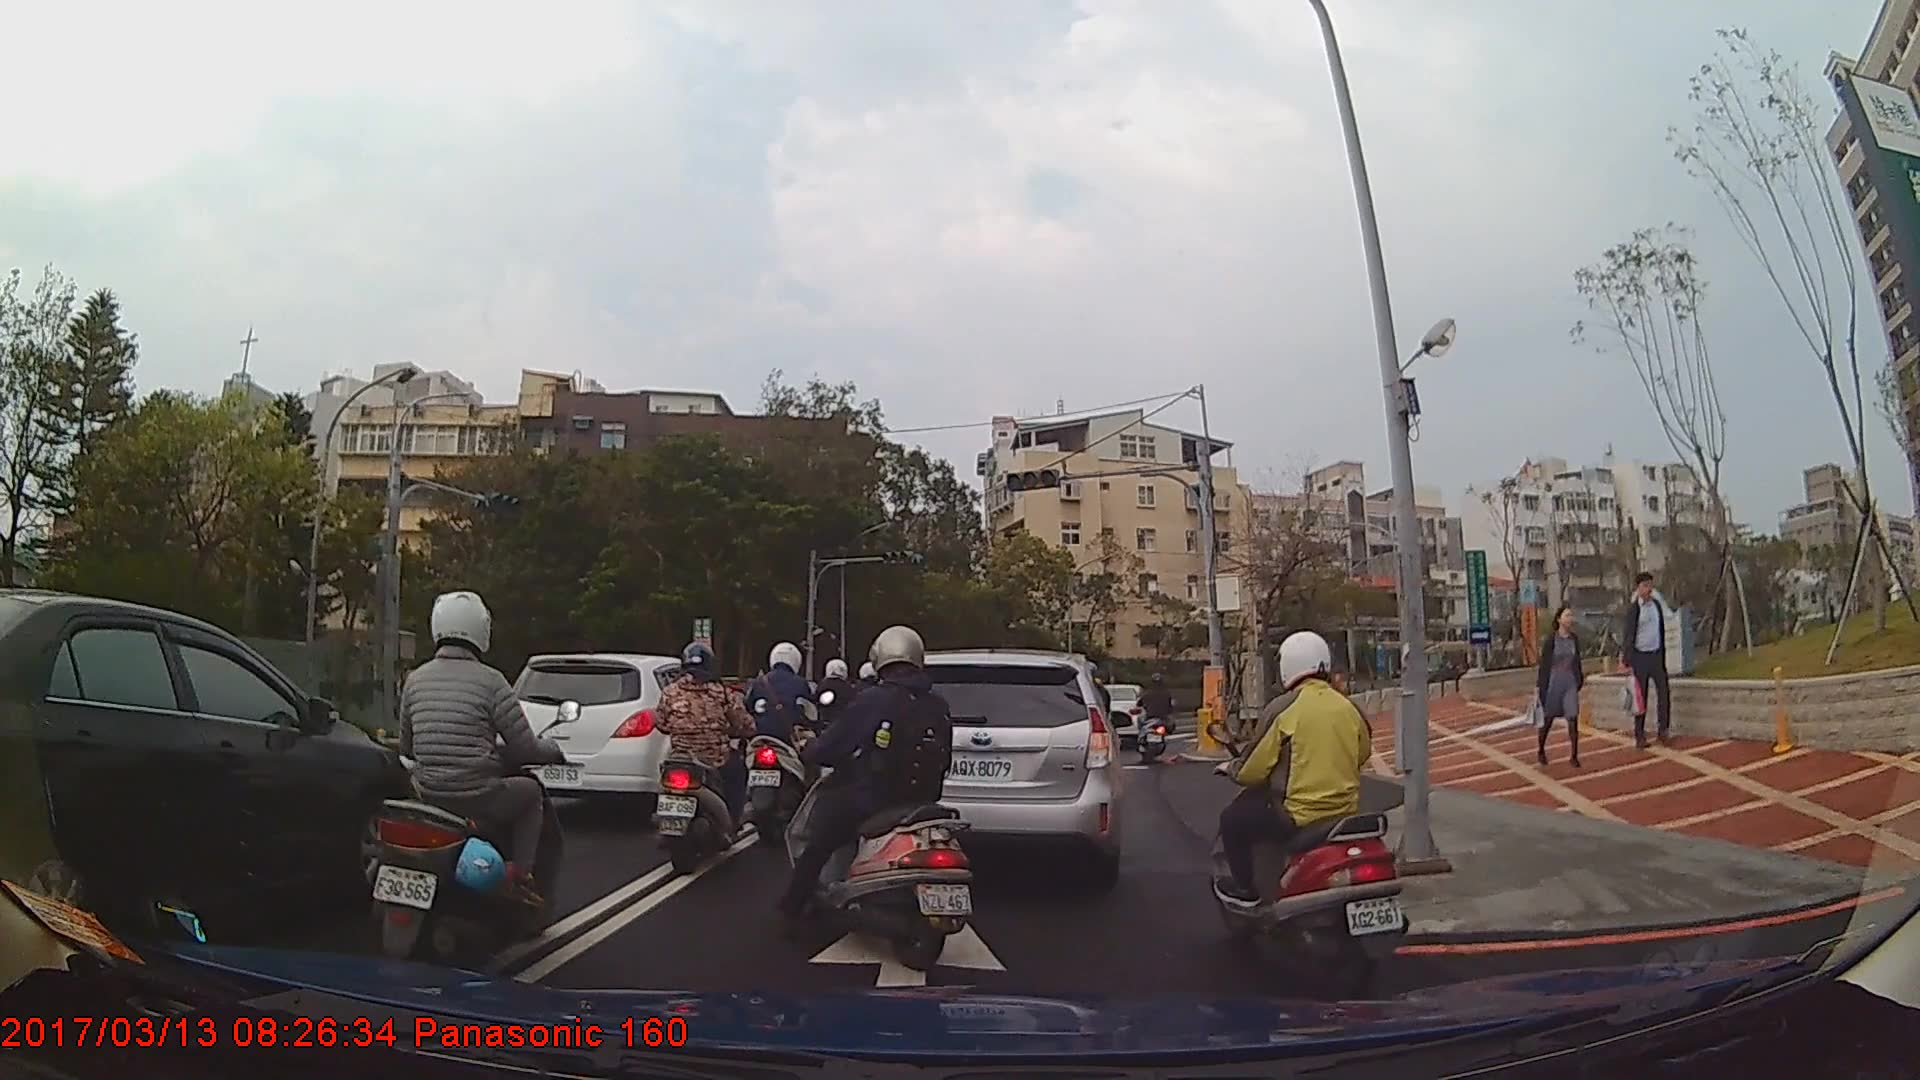pedestrian: (1525, 602, 1592, 771), (1618, 575, 1683, 749)
rider: (366, 590, 571, 978), (1209, 634, 1416, 989), (783, 626, 980, 979), (649, 643, 755, 879), (736, 636, 829, 843), (1138, 672, 1178, 759)
vehicle: (0, 588, 422, 954), (854, 647, 1122, 884), (497, 651, 753, 821)
